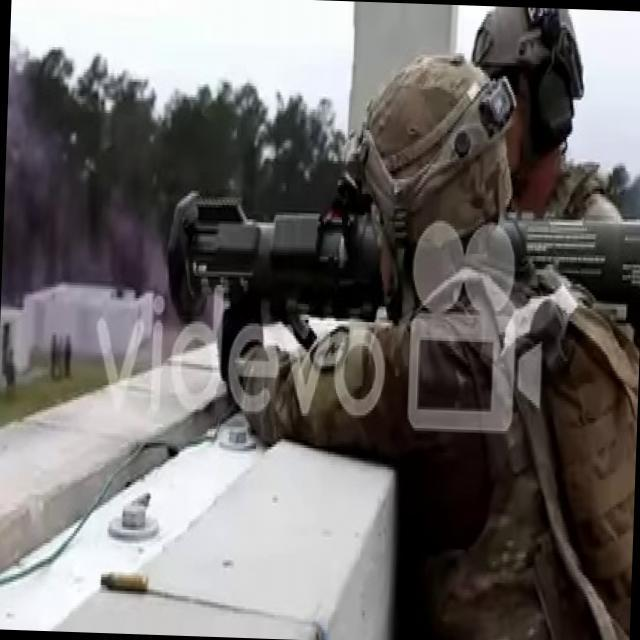rocket: (167, 191, 640, 330)
